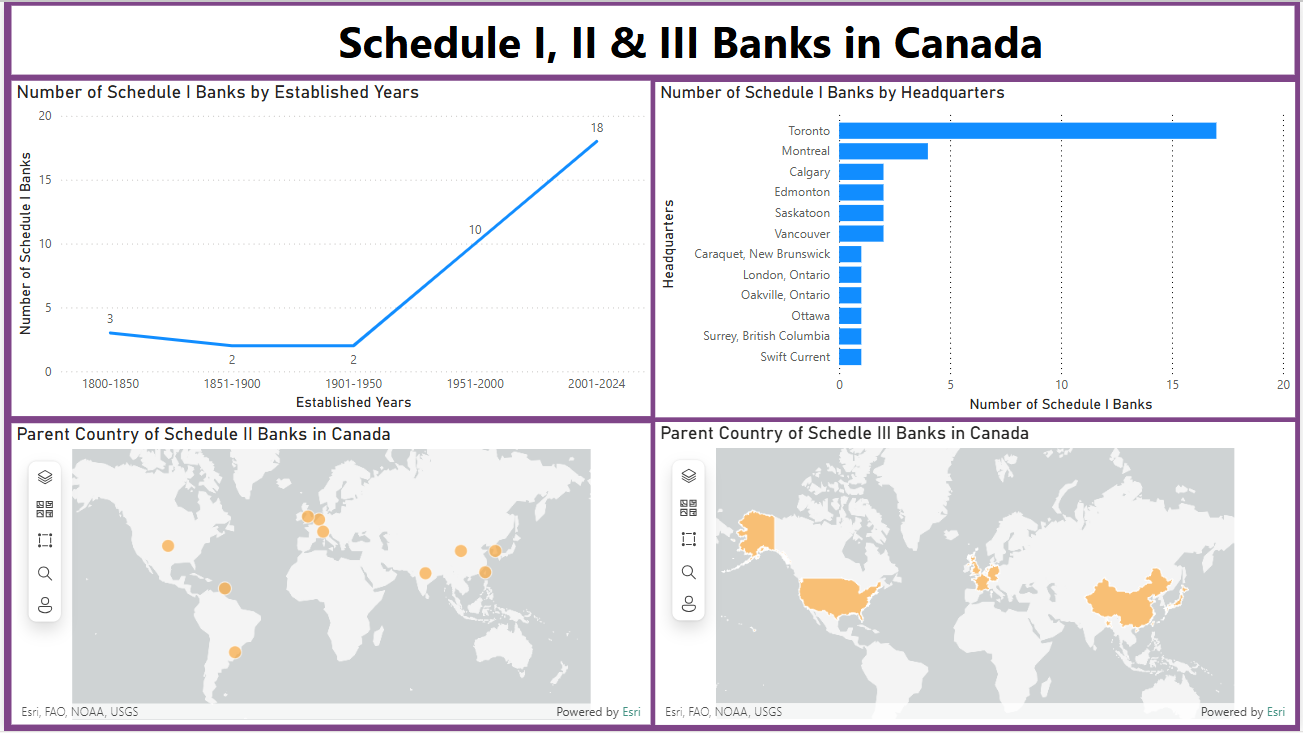

Layout of this report page (visuals, bound fields, positions):
{"tool":"powerbi","page":{"name":"Schedule 1, 2 & 3 Banks ","canvas":[1280,720],"ordinal":3},"visuals":[{"type":"textbox","box":[6.9,4.1,1267,68],"z":0},{"type":"lineChart","fields":{"Category":["Sch_I_Bank.Categorized Established Year"],"Y":["CountNonNull(Sch_I_Bank.Bank)"]},"box":[6.9,78.2,631.2,331],"z":1000},{"type":"barChart","fields":{"Y":["CountNonNull(Sch_I_Bank.Bank)"],"Category":["Sch_I_Bank.Headquarters"]},"box":[643.6,78.2,631.2,331],"z":2000},{"type":"esriVisual","fields":{"Location":["Sch_II_Bank.Parent Company"]},"box":[6.9,415.8,631.2,297.8],"z":3000},{"type":"esriVisual","fields":{"Location":["Sch_III_Bank.Parent Country of Schedle III Banks in Canada"]},"box":[643.6,414.4,631.2,298],"z":4000}]}

Visuals, with their boxes in screenshot pixels (x1, y1, x2, y2), scaled from the page's 1280x720 canvas onto the 1303x733 screenshot:
textbox: bbox(7, 4, 1297, 73)
lineChart - Sch_I_Bank.Categorized Established Year x CountNonNull(Sch_I_Bank.Bank): bbox(7, 80, 650, 417)
barChart - CountNonNull(Sch_I_Bank.Bank) x Sch_I_Bank.Headquarters: bbox(655, 80, 1298, 417)
esriVisual - Sch_II_Bank.Parent Company: bbox(7, 423, 650, 726)
esriVisual - Sch_III_Bank.Parent Country of Schedle III Banks in Canada: bbox(655, 422, 1298, 725)
